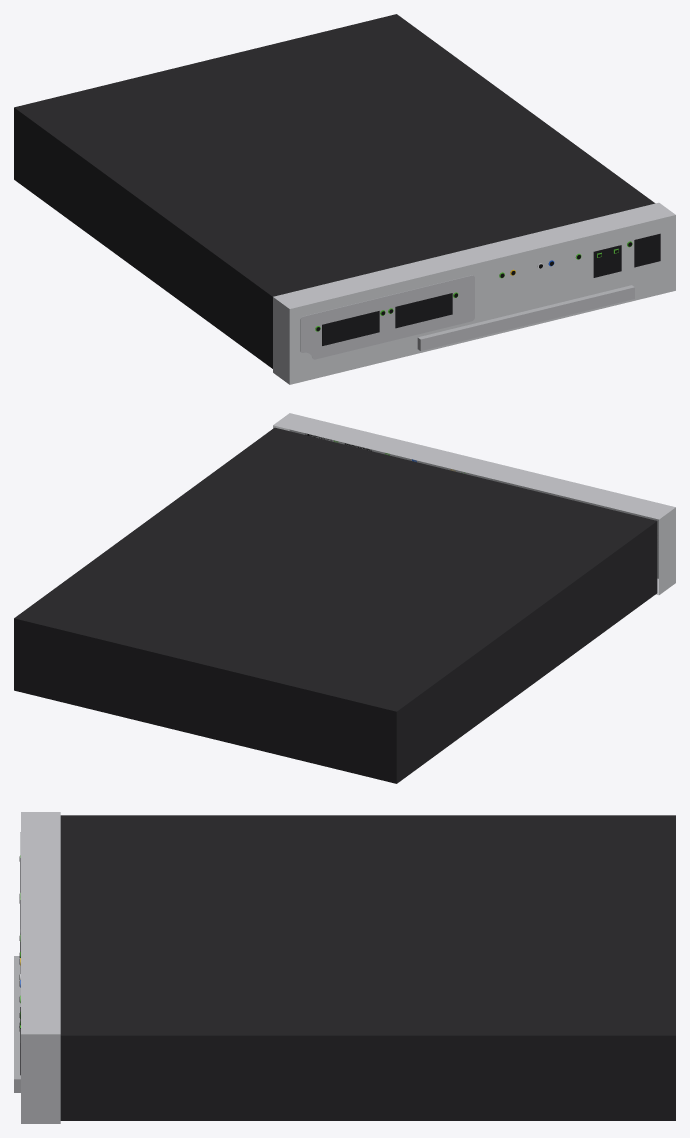
File: ME5-CTRL-ISCSI-SFP28.far.glb
The picture shows the model from 3 angles, top to bottom: view 1: azimuth 30°, elevation 25°; view 2: azimuth 150°, elevation 25°; view 3: azimuth 270°, elevation 25°; orthographic projection. The views are drawn at different scales.
Parts seen in each view (by area): view 1: Controller_far; view 2: Controller_far; view 3: Controller_far.
Part boxes in pixels (x1,y1,x2,y2): Controller_far: (14,14,675,384); Controller_far: (14,413,675,783); Controller_far: (14,812,675,1123).
Bounding box in the file's own units: 0.225 × 0.0422 × 0.283.
2 materials, 1 textured.
